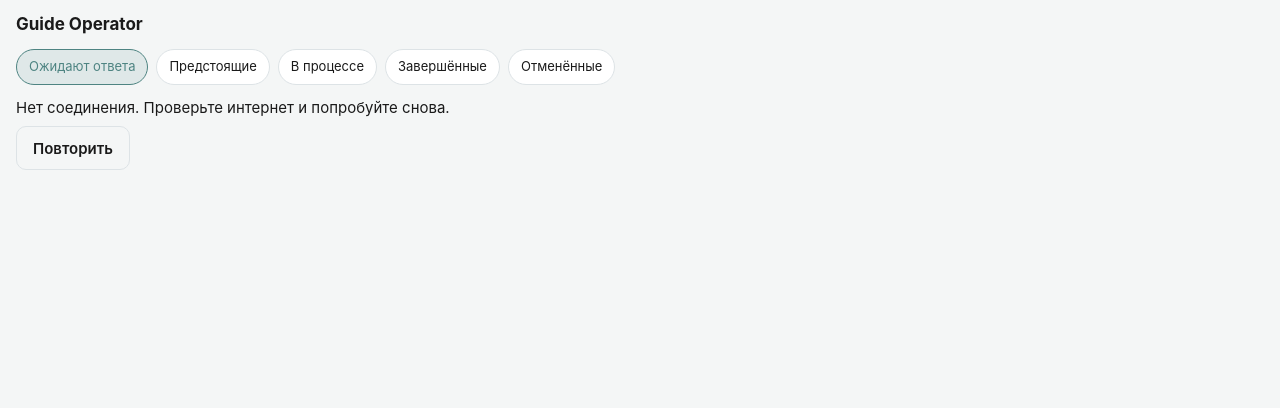
Guide Operator UI (GO6B2) › refreshes cancelled list after retry from error
Check: the text "Нет соединения. Проверьте интернет и попробуйте снова." is shown, box [16,97,450,118]
Click the button "Повторить": {"x": 73, "y": 148} [16,126,130,170]
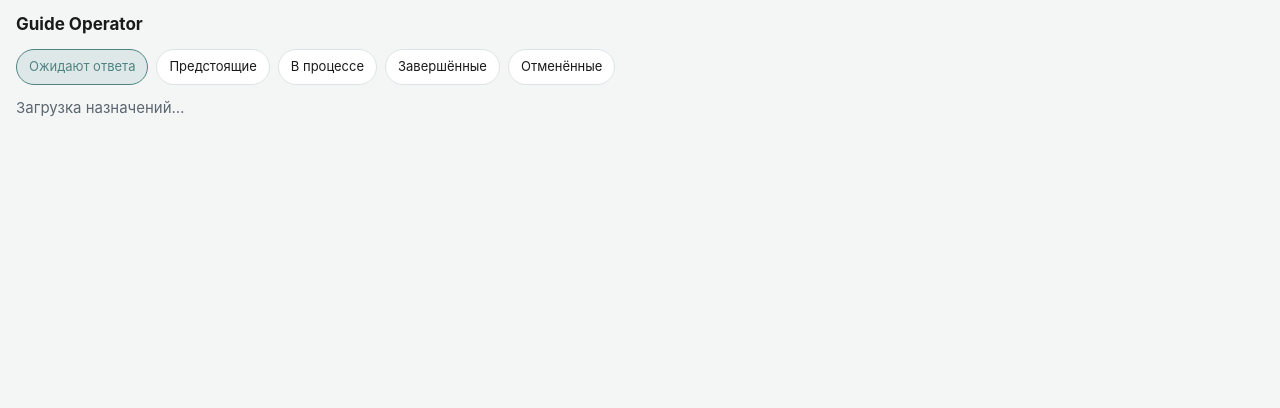
Click the button "Отменённые": {"x": 562, "y": 67} [508,49,615,85]
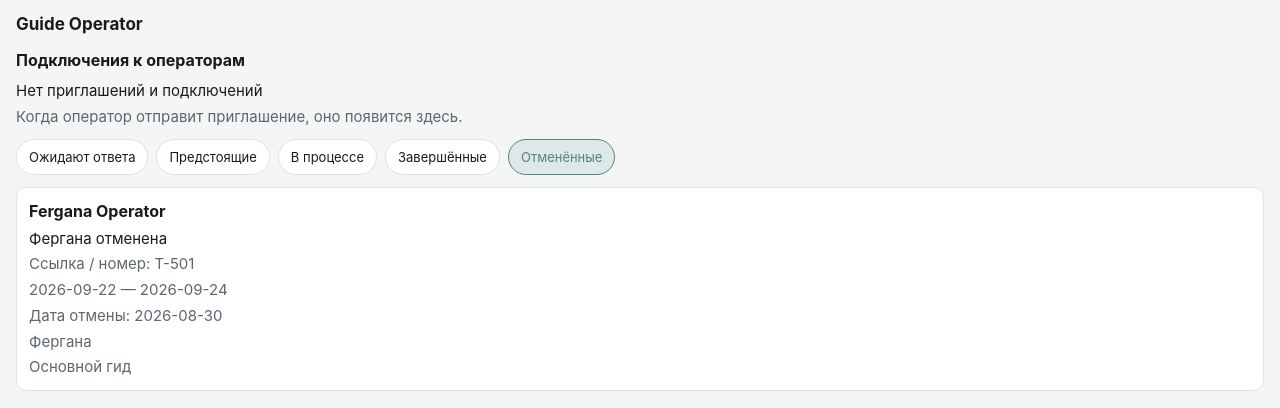
Check: the text "Fergana Operator" is shown, box [29,200,166,224]
